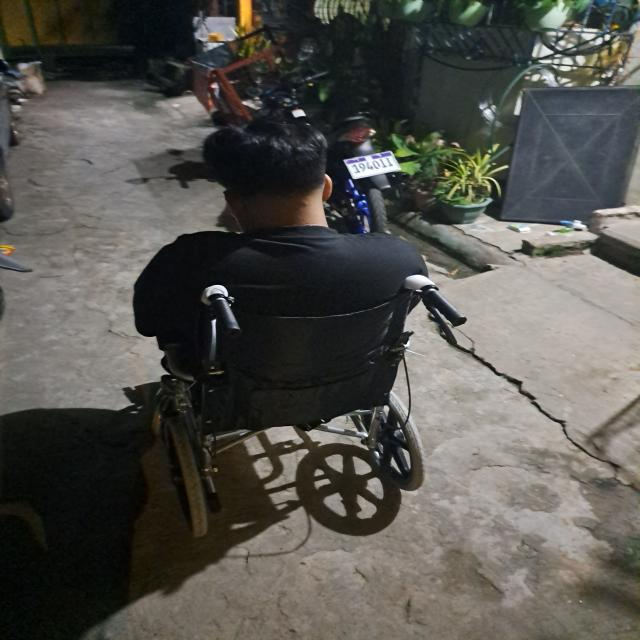wheelchairs: (135, 271, 474, 551)
